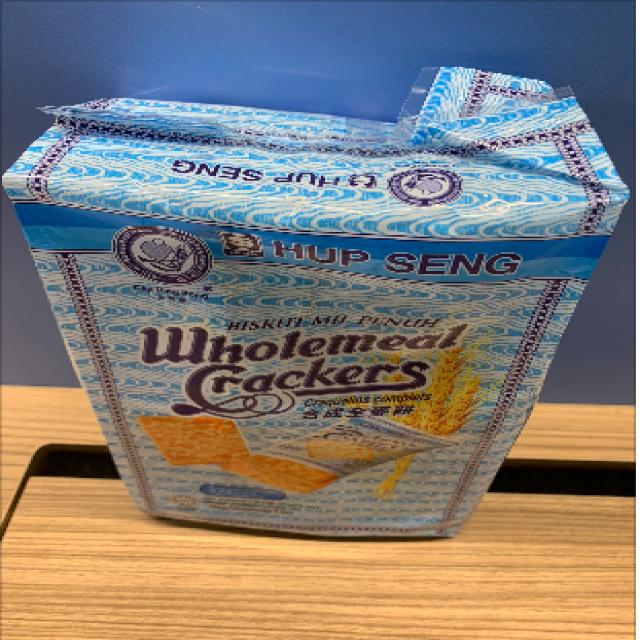object_name: (37, 113, 556, 542)
